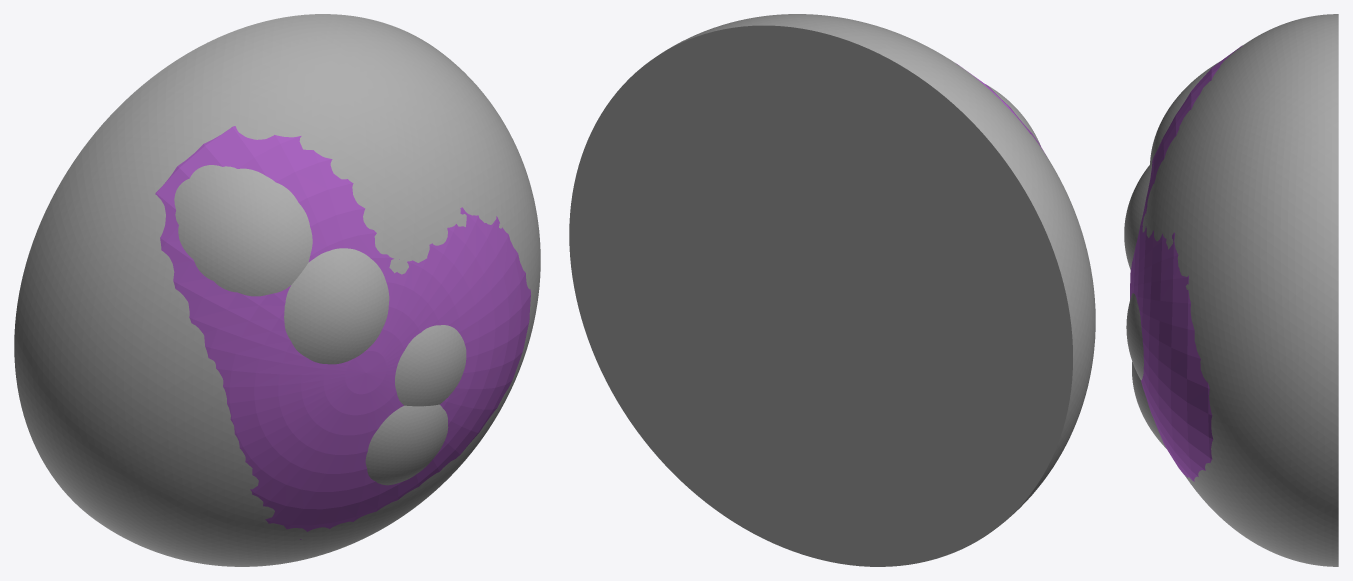
File: G05_A3_ALIGNED_GT.glb
3 views of the same model, side by side, from view 1: azimuth 30°, elevation 25°; view 2: azimuth 150°, elevation 25°; view 3: azimuth 270°, elevation 25° (orthographic). The views are drawn at different scales.
Parts seen in each view (by area): view 1: Independent_GT, A3; view 2: Independent_GT; view 3: Independent_GT, A3.
Part boxes in pixels (<box>): Independent_GT: <box>14,14,540,566</box>; A3: <box>155,126,530,539</box>; Independent_GT: <box>569,14,1095,566</box>; Independent_GT: <box>1124,14,1338,566</box>; A3: <box>1130,45,1242,481</box>.
Bounding box in the file's own units: 0.018 × 0.018 × 0.00699.
